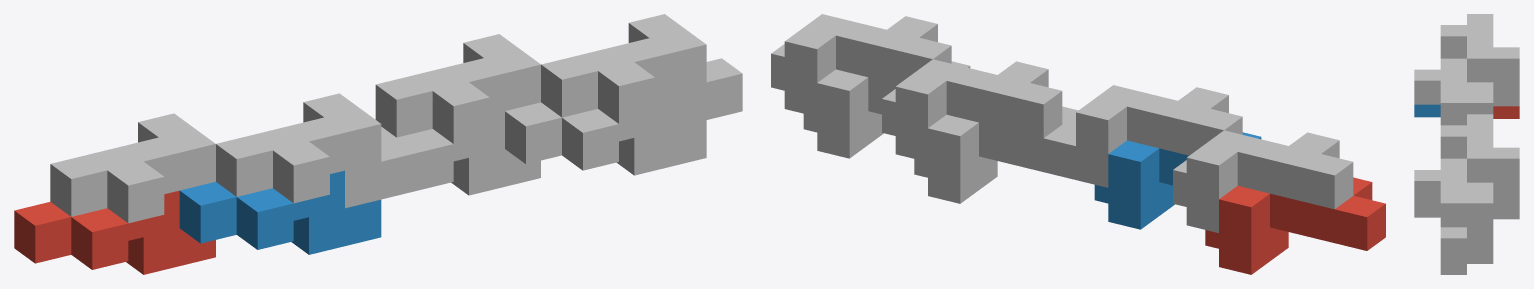
File: tiling.obj
3 views of the same model, side by side, from view 1: azimuth 30°, elevation 25°; view 2: azimuth 150°, elevation 25°; view 3: azimuth 270°, elevation 25° (orthographic). The views are drawn at different scales.
Parts seen in each view (by area): view 1: copy_1_domain_8, copy_1_domain_4, copy_1_domain_3, copy_1_domain_7, copy_1_domain_2, copy_1_domain_6, copy_1_domain_1, copy_1_domain_5; view 2: copy_1_domain_7, copy_1_domain_3, copy_1_domain_8, copy_1_domain_1, copy_1_domain_4, copy_1_domain_5, copy_1_domain_2, copy_1_domain_6; view 3: copy_1_domain_8, copy_1_domain_7, copy_1_domain_3, copy_1_domain_4, copy_1_domain_6, copy_1_domain_2, copy_1_domain_5, copy_1_domain_1.
Boxes of the visible parts, x1,y1,x2,y2 form: copy_1_domain_8: [541, 14, 742, 128]; copy_1_domain_4: [216, 93, 417, 208]; copy_1_domain_3: [50, 113, 215, 223]; copy_1_domain_7: [375, 34, 540, 143]; copy_1_domain_2: [179, 170, 381, 254]; copy_1_domain_6: [505, 91, 706, 175]; copy_1_domain_1: [14, 190, 215, 274]; copy_1_domain_5: [381, 111, 540, 195]; copy_1_domain_7: [882, 59, 1062, 161]; copy_1_domain_3: [1173, 130, 1353, 232]; copy_1_domain_8: [771, 14, 951, 116]; copy_1_domain_1: [1205, 177, 1385, 274]; copy_1_domain_4: [1063, 85, 1242, 187]; copy_1_domain_5: [914, 106, 1078, 203]; copy_1_domain_2: [1094, 132, 1261, 229]; copy_1_domain_6: [803, 61, 970, 158]; copy_1_domain_8: [1414, 158, 1493, 262]; copy_1_domain_7: [1440, 114, 1519, 206]; copy_1_domain_3: [1440, 14, 1519, 106]; copy_1_domain_4: [1414, 58, 1493, 125]; copy_1_domain_6: [1414, 205, 1493, 274]; copy_1_domain_2: [1414, 104, 1440, 117]; copy_1_domain_5: [1493, 206, 1519, 219]; copy_1_domain_1: [1493, 106, 1519, 118].
Bounding box in the file's own units: 19 × 3 × 4.
